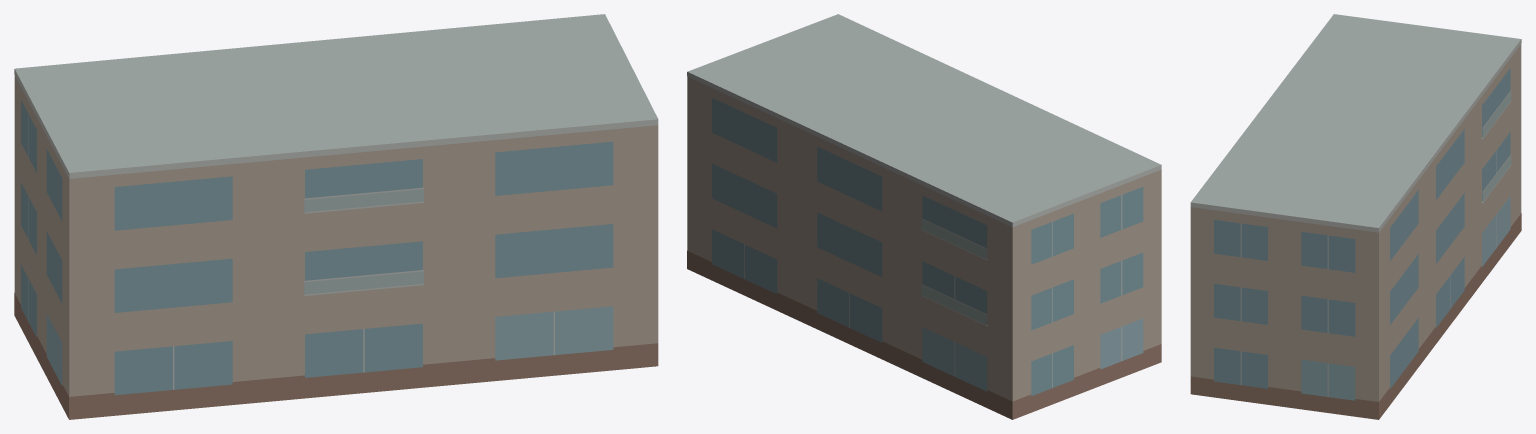
File: survey-upis-32800114.glb
The picture shows the model from 3 angles, left to right: view 1: azimuth 30°, elevation 25°; view 2: azimuth 150°, elevation 25°; view 3: azimuth 270°, elevation 25°; orthographic projection. The views are drawn at different scales.
Parts seen in each view (by area): view 1: survey-upis-32800114.tmp; view 2: survey-upis-32800114.tmp; view 3: survey-upis-32800114.tmp.
Part boxes in pixels (<box>): survey-upis-32800114.tmp: <box>14,14,658,419</box>; survey-upis-32800114.tmp: <box>687,14,1161,419</box>; survey-upis-32800114.tmp: <box>1190,14,1521,419</box>.
Bounding box in the file's own units: 24.43 × 10.2 × 15.96.
